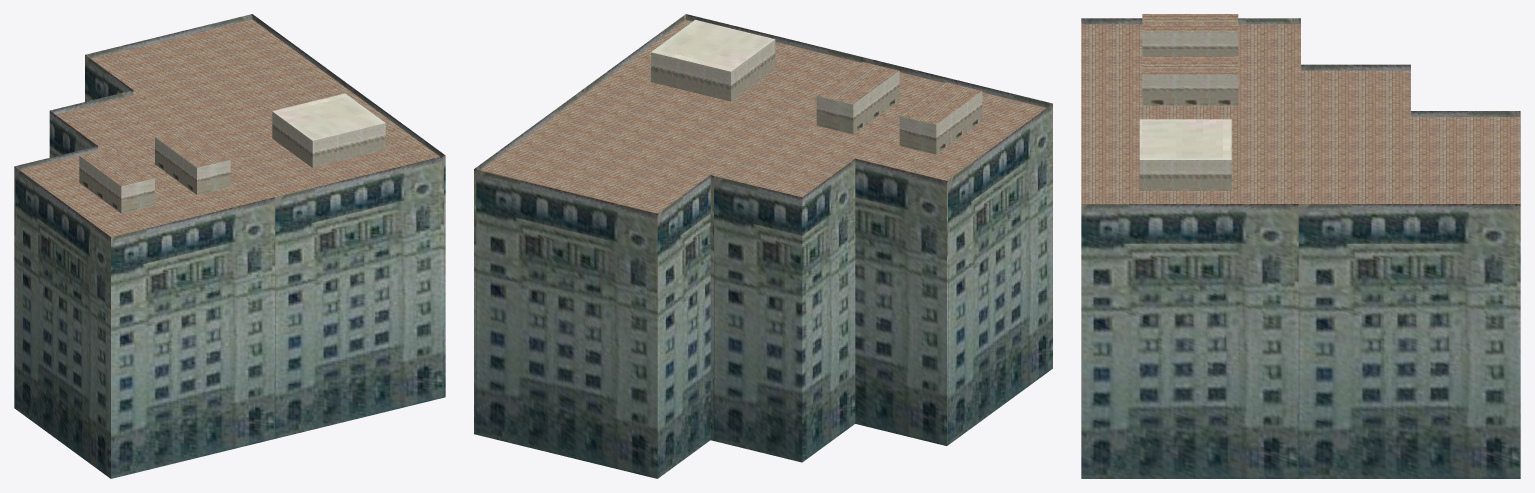
3 views of the same model, side by side, from view 1: azimuth 30°, elevation 25°; view 2: azimuth 150°, elevation 25°; view 3: azimuth 270°, elevation 25° (orthographic). The views are drawn at different scales.
Parts seen in each view (by area): view 1: Object_1, Object_2, Object_9, Object_4, Object_3, Object_6, Object_5, Object_8, Object_7; view 2: Object_1, Object_2, Object_9, Object_4, Object_3, Object_6, Object_5, Object_8, Object_7; view 3: Object_1, Object_2, Object_9, Object_3, Object_6, Object_4, Object_5, Object_8, Object_7.
Part boxes in pixels (box(x1,y1,x2,y2)): Object_1: box(14, 14, 445, 478); Object_2: box(20, 19, 439, 236); Object_9: box(14, 14, 445, 242); Object_4: box(272, 111, 385, 167); Object_3: box(272, 93, 384, 140); Object_6: box(155, 137, 230, 194); Object_5: box(79, 156, 154, 213); Object_8: box(79, 147, 154, 186); Object_7: box(155, 129, 229, 167); Object_1: box(474, 15, 1052, 478); Object_2: box(480, 20, 1046, 213); Object_9: box(474, 14, 1052, 219); Object_4: box(651, 39, 775, 101); Object_3: box(651, 20, 774, 71); Object_6: box(816, 71, 899, 134); Object_5: box(899, 91, 982, 154); Object_8: box(900, 82, 981, 124); Object_7: box(817, 62, 899, 104); Object_1: box(1081, 18, 1520, 478); Object_2: box(1081, 24, 1520, 203); Object_9: box(1081, 18, 1520, 209); Object_3: box(1139, 119, 1231, 159); Object_6: box(1142, 74, 1238, 105); Object_4: box(1139, 160, 1231, 190); Object_5: box(1142, 32, 1238, 55); Object_8: box(1142, 14, 1238, 32); Object_7: box(1142, 56, 1238, 74).
Bounding box in the file's own units: 1283 × 1283 × 966.
9 materials, 9 textured.
